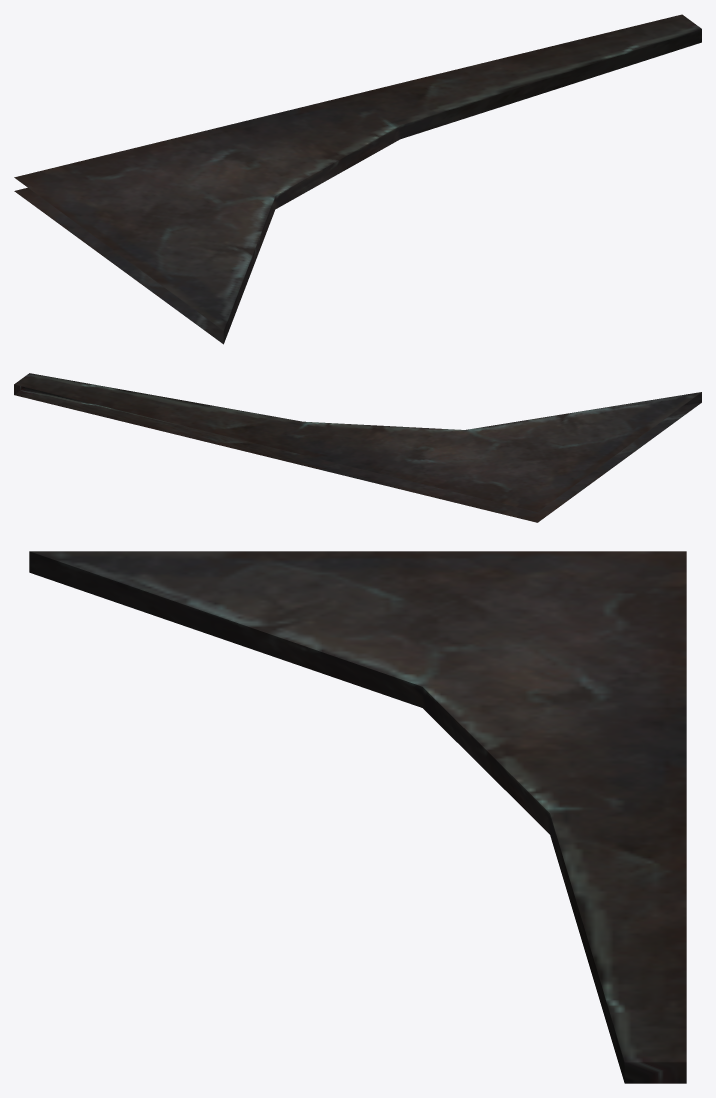
The model's file is common_underground_tiepi02.FBX.
3 views of the same model, one above another, from view 1: azimuth 30°, elevation 25°; view 2: azimuth 150°, elevation 25°; view 3: azimuth 270°, elevation 25° (orthographic). The views are drawn at different scales.
Visible parts, largest first — view 1: common_underground_tiepi02; view 2: common_underground_tiepi02; view 3: common_underground_tiepi02.
Part boxes in pixels (x1,y1,x2,y2): common_underground_tiepi02: (14, 14, 701, 344); common_underground_tiepi02: (14, 373, 701, 522); common_underground_tiepi02: (29, 551, 686, 1083).
Size of the model in its own units: 4.17 by 0.081 by 2.27.
